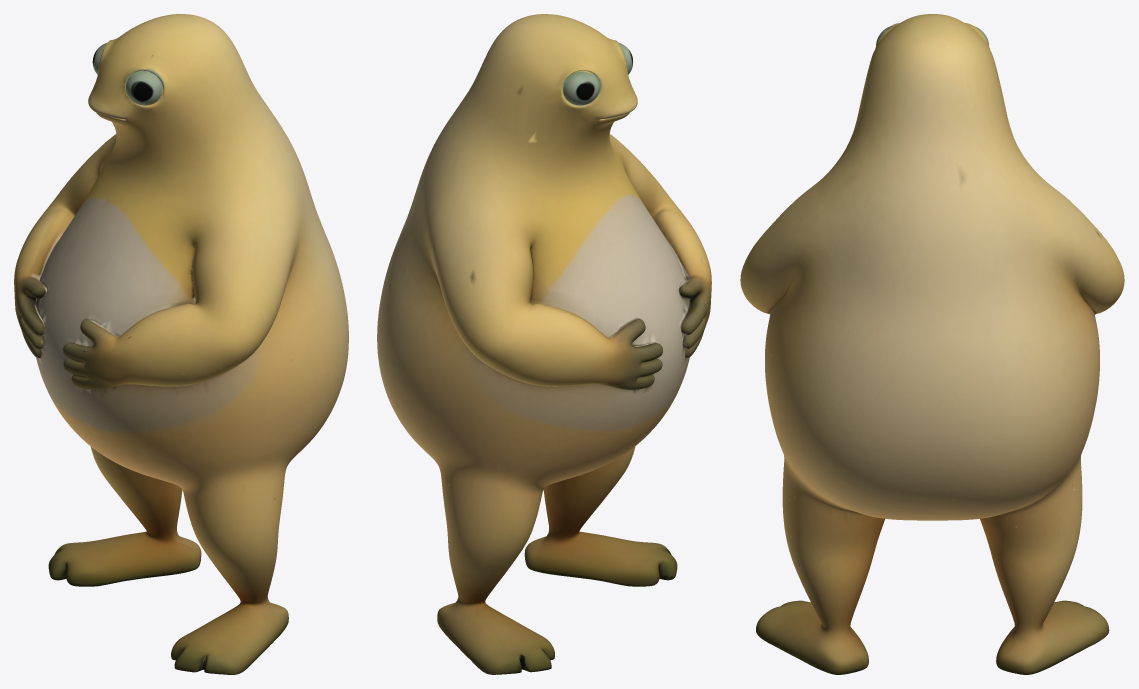
File: naiwa-webp.glb
3 renders of one model, left to right at view 1: azimuth 30°, elevation 25°; view 2: azimuth 150°, elevation 25°; view 3: azimuth 270°, elevation 25°, orthographic. The views are drawn at different scales.
Parts seen in each view (by area): view 1: node_0; view 2: node_0; view 3: node_0.
Part boxes in pixels (bbox=[...]): node_0: bbox=[14, 14, 348, 674]; node_0: bbox=[377, 14, 711, 674]; node_0: bbox=[740, 14, 1124, 674].
Bounding box in the file's own units: 0.5229 × 1.06 × 0.5969.
1 material, 1 textured.
